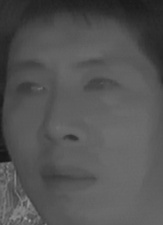eye: (82, 74, 119, 96), (12, 79, 49, 99)
mouth: (35, 159, 99, 196)
